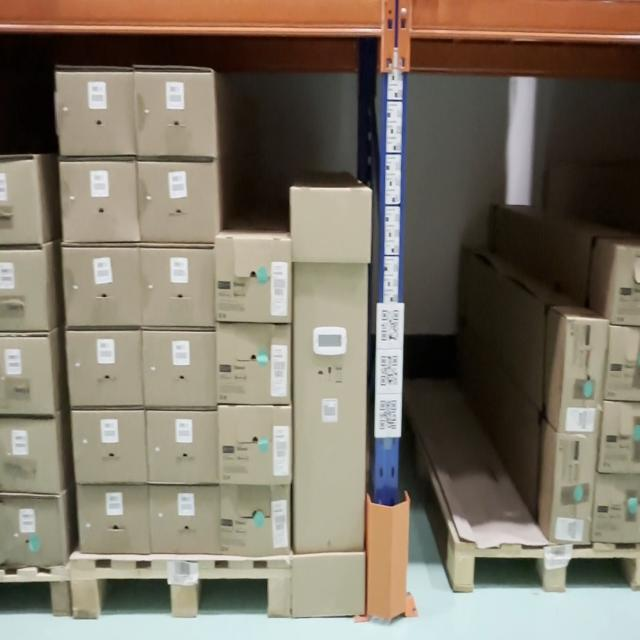box: (292, 197, 366, 606), (56, 72, 135, 162), (134, 78, 214, 160), (138, 250, 212, 337), (216, 240, 289, 322), (139, 165, 215, 243), (61, 171, 138, 247), (65, 252, 137, 325), (551, 434, 598, 543), (562, 321, 607, 434), (220, 409, 290, 480), (146, 339, 216, 410), (76, 489, 148, 558), (67, 339, 142, 405), (219, 332, 290, 401), (149, 412, 218, 482), (71, 418, 144, 483), (153, 487, 221, 555), (222, 489, 288, 550)
